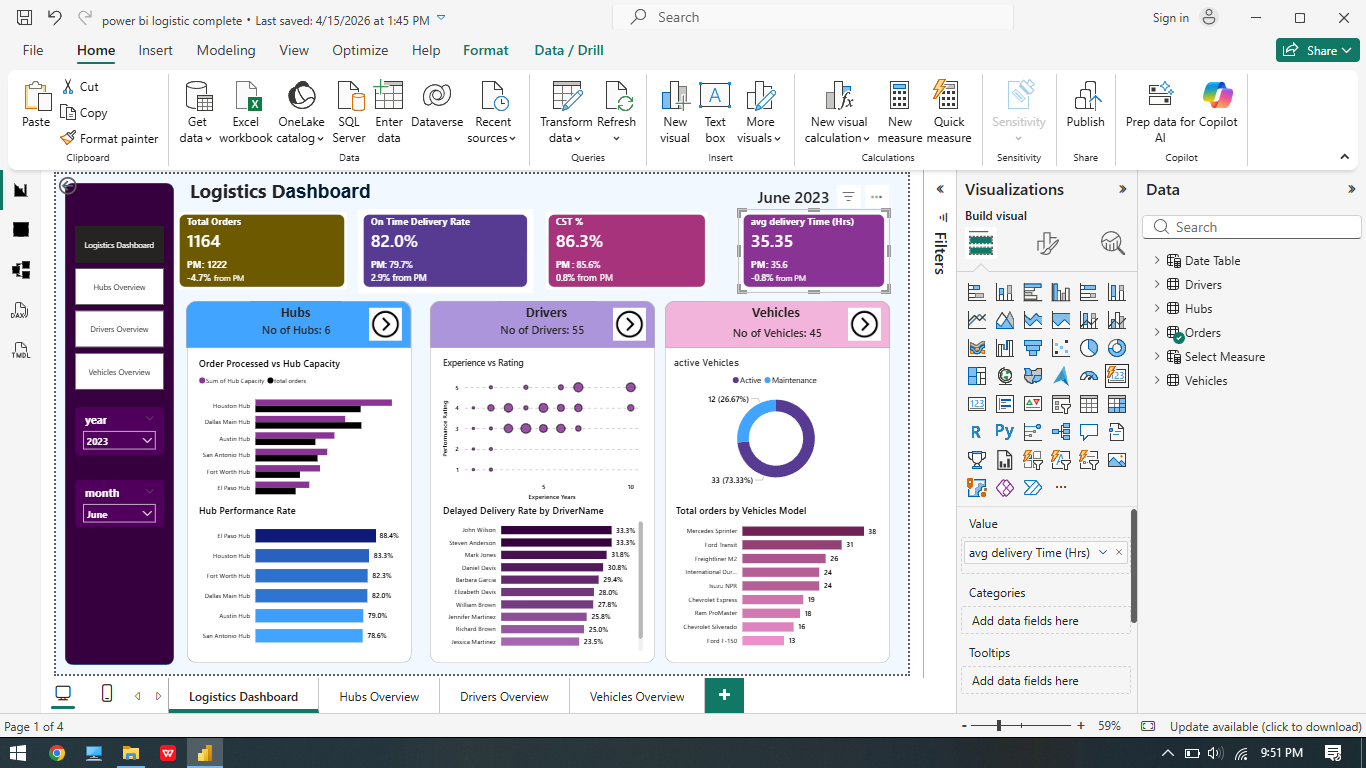

The page's visual inventory and layout, read from the dashboard file:
{"tool":"powerbi","page":{"name":"Logistics Dashboard","canvas":[1450,850],"ordinal":0},"visuals":[{"type":"shape","box":[15.3,15.3,185.3,819.4],"z":0},{"type":"textbox","box":[222.7,0,324.7,59.5],"z":1000},{"type":"cardVisual","fields":{"Data":["Orders.total orders"]},"box":[200.6,59.5,299.2,142.8],"z":2000},{"type":"slicer","fields":{"Values":["Date Table.year"]},"box":[32.3,396.1,151.3,81.6],"z":3000},{"type":"slicer","fields":{"Values":["Date Table.month"]},"box":[32.3,520.2,151.3,79.9],"z":4000},{"type":"cardVisual","fields":{"Data":["Orders.CST %"]},"box":[827.9,59.5,285.6,142.8],"z":5000},{"type":"cardVisual","fields":{"Data":["Orders.On Time Delivery Rate"]},"box":[513.4,59.5,297.5,142.8],"z":6000},{"type":"cardVisual","fields":{"Data":["Orders.avg delivery Time (Hrs)"]},"box":[1159.4,59.5,258.4,142.8],"z":7000},{"type":"actionButton","box":[0,0,100,40],"z":8000},{"type":"shape","box":[222.7,215.9,382,615],"z":9000},{"type":"shape","box":[635.8,215.9,382.5,615.4],"z":10000},{"type":"shape","box":[1035.3,215.9,382.5,615.4],"z":11000},{"type":"shape","box":[221,215.9,382.5,79.9],"z":12000},{"type":"shape","box":[635.8,215.9,382.5,79.9],"z":13000},{"type":"shape","box":[1035.3,215.9,382.5,79.9],"z":14000},{"type":"textbox","box":[329.8,215.9,154.7,40.8],"z":15000},{"type":"textbox","box":[749.7,215.9,168.3,40.8],"z":16000},{"type":"textbox","box":[1128.8,215.9,190.4,40.8],"z":17000},{"type":"cardVisual","fields":{"Data":["Hubs.No of Hubs"]},"box":[317.9,236.3,181.9,54.4],"z":18000},{"type":"cardVisual","fields":{"Data":["Drivers.No of Drivers"]},"box":[736.1,236.3,181.9,54.4],"z":19000},{"type":"cardVisual","fields":{"Data":["Vehicles.No of Vehicles"]},"box":[1123.7,241.4,205.7,54.4],"z":20000},{"type":"clusteredBarChart","title":"Order Processed vs Hub Capacity","fields":{"Category":["Hubs.HubName"],"Y":["Sum(Hubs.Hub Capacity)","Orders.total orders"]},"box":[238,311.1,350.2,249.9],"z":21000},{"type":"barChart","title":"Hub Performance Rate ","fields":{"Y":["Orders.On Time Delivery Rate"],"Category":["Hubs.HubName"]},"box":[238,561,350.2,255],"z":22000},{"type":"scatterChart","title":" Experience vs Rating","fields":{"Y":["Drivers.Performance Rating"],"X":["Drivers.Experience Years"],"Size":["Sum(Drivers.Experience Years)1"]},"box":[652.8,311.1,350.2,249.9],"z":23000},{"type":"barChart","title":"Delayed Delivery Rate by DriverName","fields":{"Category":["Drivers.DriverName"],"Y":["Orders.Delyed Delivery Rte"]},"box":[652.8,561,350.2,255],"z":24000},{"type":"donutChart","title":"active Vehicles","fields":{"Category":["Vehicles.Vehicle Status"],"Y":["CountNonNull(Vehicles.Vehicle ID)"]},"box":[1045.5,311.1,357,229.5],"z":25000},{"type":"barChart","title":"Total orders by Vehicles Model","fields":{"Category":["Vehicles.Vehicle Model"],"Y":["Orders.total orders"]},"box":[1048.9,561,350.2,255],"z":26000},{"type":"cardVisual","fields":{"Data":["Orders.Year Month Title"]},"box":[1113.5,0,280.5,73.1],"z":27000},{"type":"pageNavigator","box":[32.3,88.4,151.3,278.8],"z":28000},{"type":"image","box":[946.9,224.4,56.1,62.9],"z":29000},{"type":"image","box":[532.1,224.4,56.1,62.9],"z":30000},{"type":"image","box":[1346.4,224.4,56.1,62.9],"z":31000}]}

Visuals, with their boxes on the page's 1450x850 design canvas (x1, y1, x2, y2). These are canvas units, not pixel positions in the 1366x768 screenshot, which may show the page scaled, cropped or inside an application window:
shape: {"x1": 15, "y1": 15, "x2": 201, "y2": 835}
textbox: {"x1": 223, "y1": 0, "x2": 547, "y2": 60}
cardVisual - Orders.total orders: {"x1": 201, "y1": 60, "x2": 500, "y2": 202}
slicer - Date Table.year: {"x1": 32, "y1": 396, "x2": 184, "y2": 478}
slicer - Date Table.month: {"x1": 32, "y1": 520, "x2": 184, "y2": 600}
cardVisual - Orders.CST %: {"x1": 828, "y1": 60, "x2": 1114, "y2": 202}
cardVisual - Orders.On Time Delivery Rate: {"x1": 513, "y1": 60, "x2": 811, "y2": 202}
cardVisual - Orders.avg delivery Time (Hrs): {"x1": 1159, "y1": 60, "x2": 1418, "y2": 202}
actionButton: {"x1": 0, "y1": 0, "x2": 100, "y2": 40}
shape: {"x1": 223, "y1": 216, "x2": 605, "y2": 831}
shape: {"x1": 636, "y1": 216, "x2": 1018, "y2": 831}
shape: {"x1": 1035, "y1": 216, "x2": 1418, "y2": 831}
shape: {"x1": 221, "y1": 216, "x2": 604, "y2": 296}
shape: {"x1": 636, "y1": 216, "x2": 1018, "y2": 296}
shape: {"x1": 1035, "y1": 216, "x2": 1418, "y2": 296}
textbox: {"x1": 330, "y1": 216, "x2": 484, "y2": 257}
textbox: {"x1": 750, "y1": 216, "x2": 918, "y2": 257}
textbox: {"x1": 1129, "y1": 216, "x2": 1319, "y2": 257}
cardVisual - Hubs.No of Hubs: {"x1": 318, "y1": 236, "x2": 500, "y2": 291}
cardVisual - Drivers.No of Drivers: {"x1": 736, "y1": 236, "x2": 918, "y2": 291}
cardVisual - Vehicles.No of Vehicles: {"x1": 1124, "y1": 241, "x2": 1329, "y2": 296}
"Order Processed vs Hub Capacity" clusteredBarChart: {"x1": 238, "y1": 311, "x2": 588, "y2": 561}
"Hub Performance Rate " barChart: {"x1": 238, "y1": 561, "x2": 588, "y2": 816}
" Experience vs Rating" scatterChart: {"x1": 653, "y1": 311, "x2": 1003, "y2": 561}
"Delayed Delivery Rate by DriverName" barChart: {"x1": 653, "y1": 561, "x2": 1003, "y2": 816}
"active Vehicles" donutChart: {"x1": 1046, "y1": 311, "x2": 1402, "y2": 541}
"Total orders by Vehicles Model" barChart: {"x1": 1049, "y1": 561, "x2": 1399, "y2": 816}
cardVisual - Orders.Year Month Title: {"x1": 1114, "y1": 0, "x2": 1394, "y2": 73}
pageNavigator: {"x1": 32, "y1": 88, "x2": 184, "y2": 367}
image: {"x1": 947, "y1": 224, "x2": 1003, "y2": 287}
image: {"x1": 532, "y1": 224, "x2": 588, "y2": 287}
image: {"x1": 1346, "y1": 224, "x2": 1402, "y2": 287}
